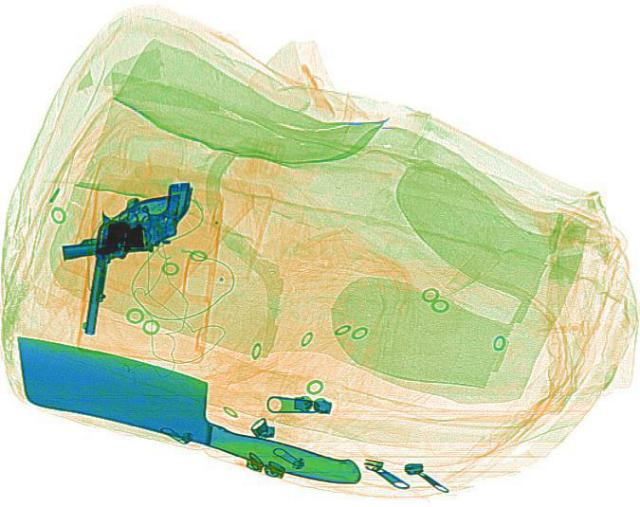Gun: (76, 187, 188, 340), (46, 179, 204, 260)
Knife: (0, 334, 387, 487)
